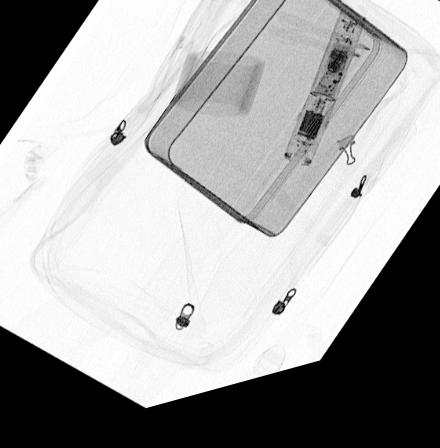Baton: (282, 25, 366, 183)
